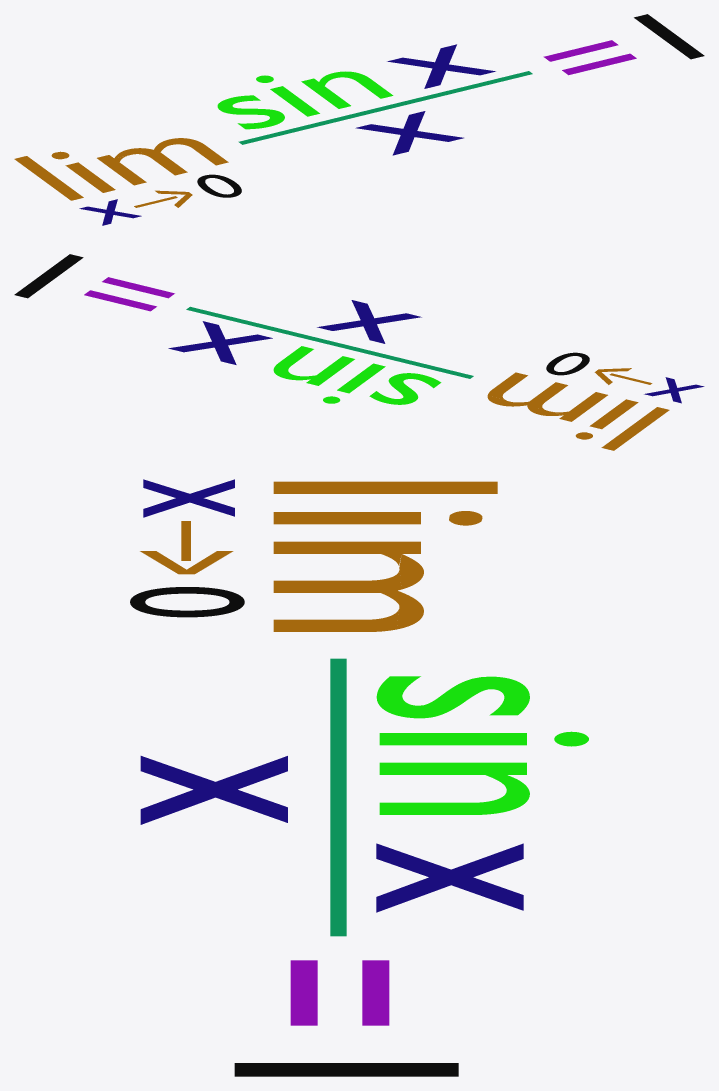
3 renders of one model, top to bottom at view 1: azimuth 30°, elevation 25°; view 2: azimuth 150°, elevation 25°; view 3: azimuth 270°, elevation 25°, orthographic. The views are drawn at different scales.
Parts seen in each view (by area): view 1: LR 6; view 2: LR 6; view 3: LR 6.
Part boxes in pixels (x1,y1,x2,y2): LR 6: [14, 14, 704, 225]; LR 6: [14, 254, 704, 450]; LR 6: [130, 479, 588, 1076].
Size of the model in its own units: 4.31 by 0 by 1.4.
